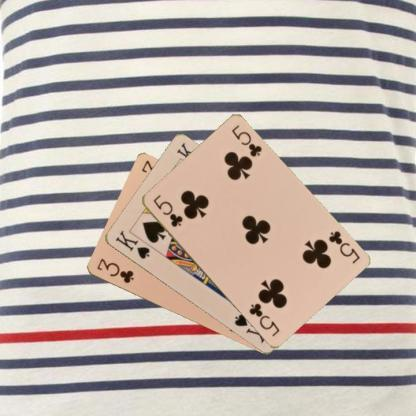3c: (94, 256, 136, 284)
5c: (325, 228, 361, 265), (150, 191, 184, 228)
Ks: (112, 228, 151, 260)
